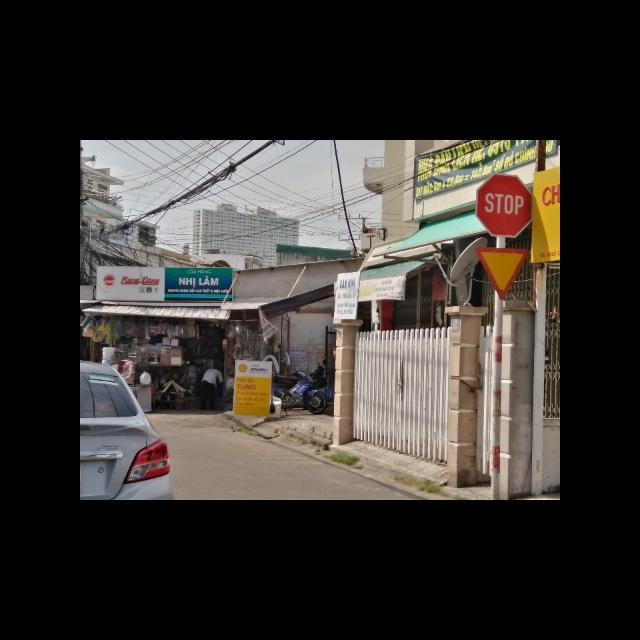Dừng lại: (477, 172, 532, 236)
Giao nhau với đường ưu tiên: (476, 244, 530, 297)
